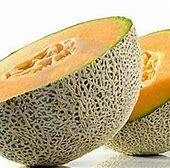Melon Ripe: (0, 15, 140, 165)
